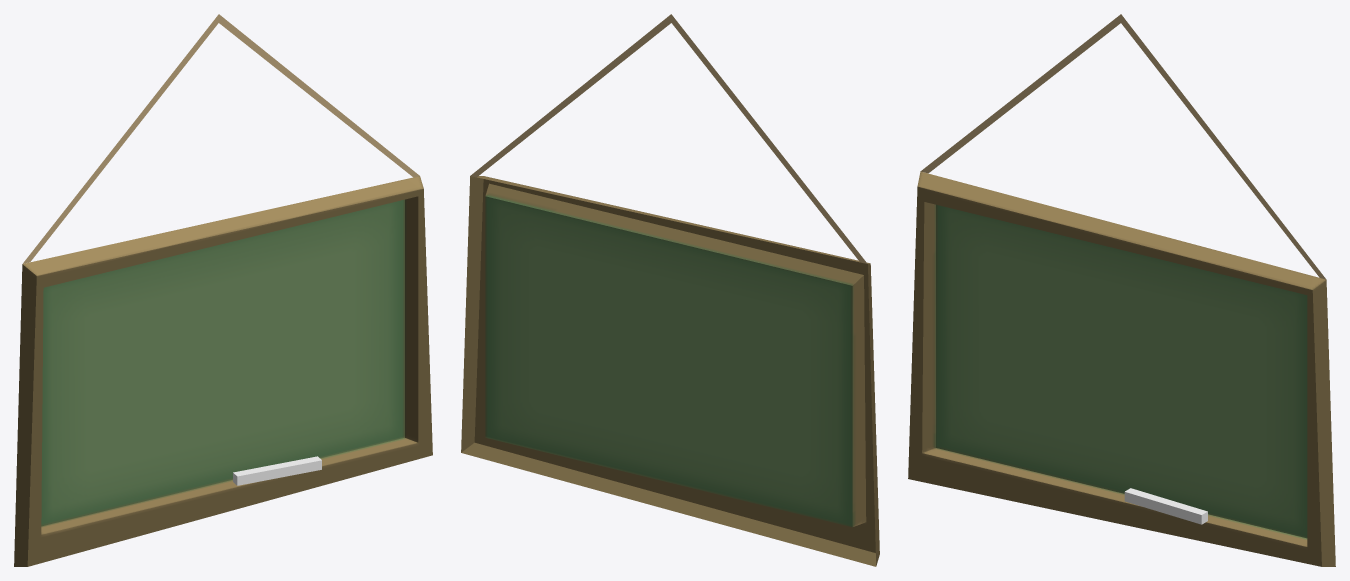
File: Menu.fbx
3 views of the same model, side by side, from view 1: azimuth 30°, elevation 25°; view 2: azimuth 150°, elevation 25°; view 3: azimuth 330°, elevation 25° (orthographic). The views are drawn at different scales.
Visible parts, largest first — view 1: Menu1; view 2: Menu1; view 3: Menu1.
Part boxes in pixels (box(x1,y1,x2,y2)): Menu1: box(14, 14, 432, 566); Menu1: box(461, 14, 879, 566); Menu1: box(908, 14, 1335, 566).
Size of the model in its own units: 8.45 by 9.78 by 0.4277.
